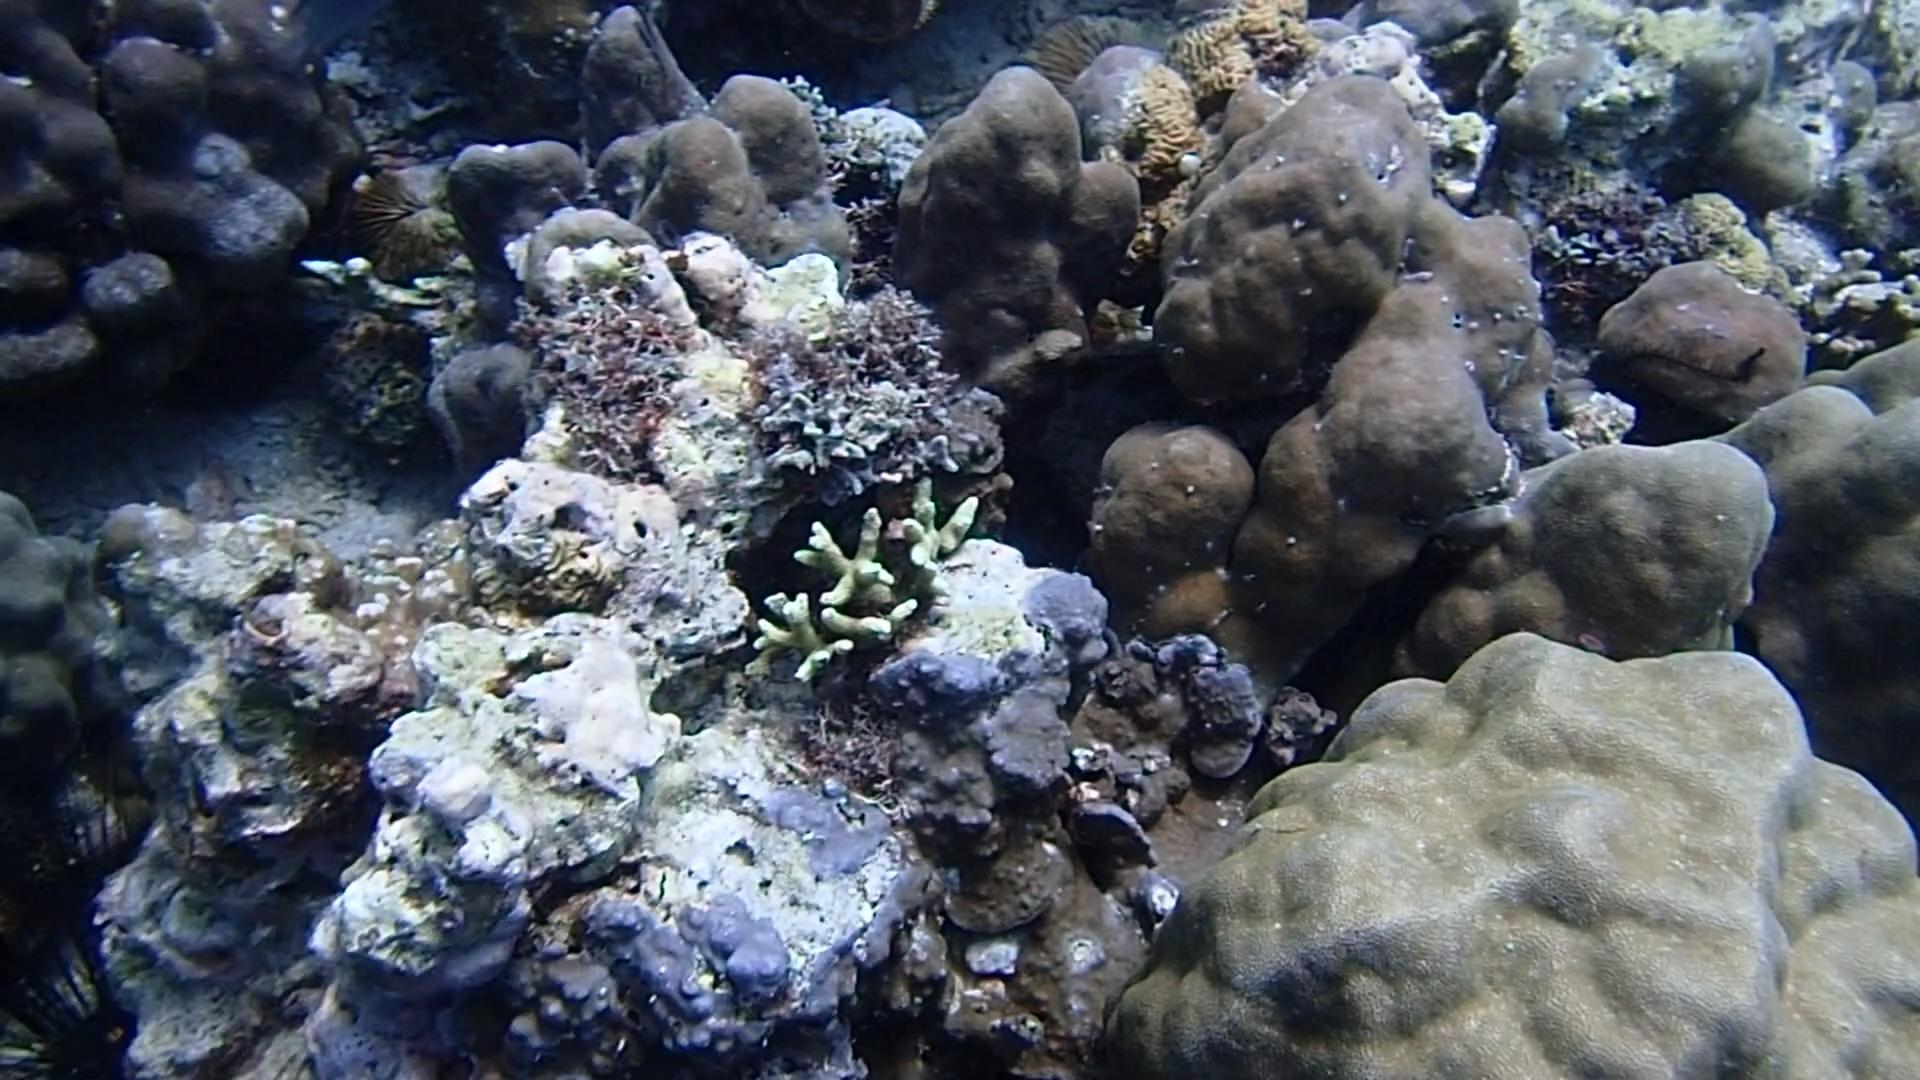Blue Fish Two: (262, 0, 397, 80)
